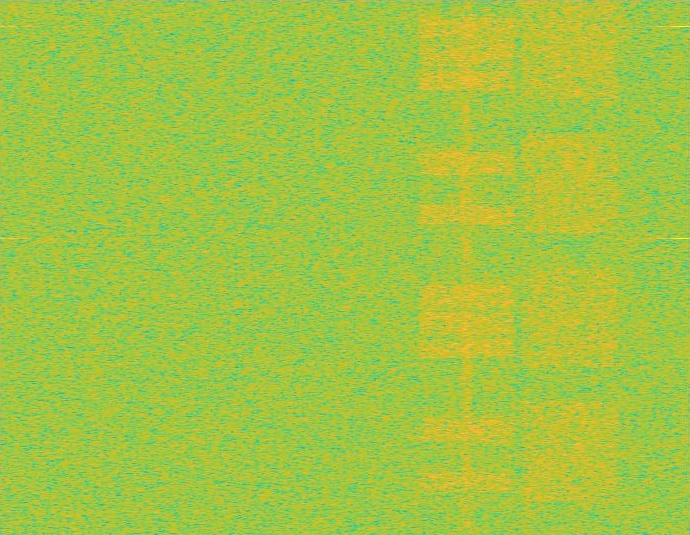5G: (518, 0, 622, 534)
DSSS: (460, 0, 474, 534)
LTE: (415, 0, 518, 534)
Radar: (676, 0, 689, 534)
